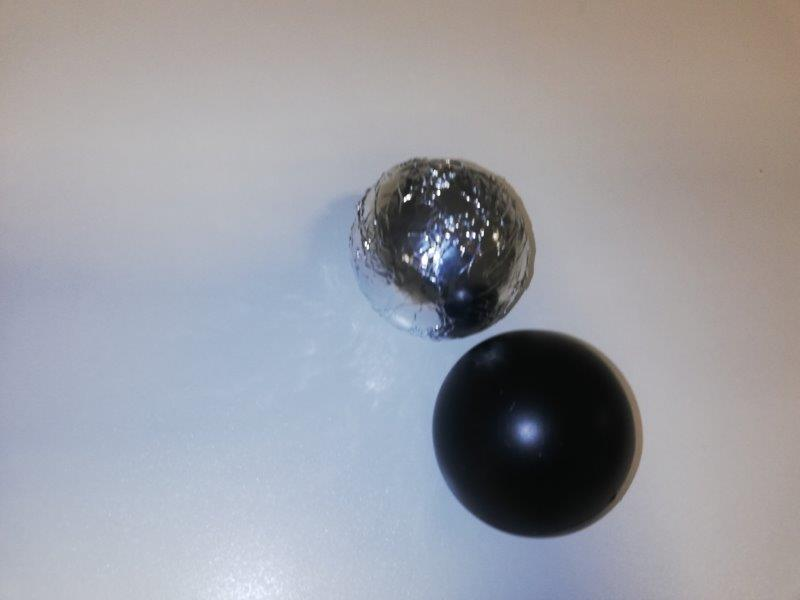bianca: (351, 155, 535, 339)
nera: (431, 331, 637, 536)
